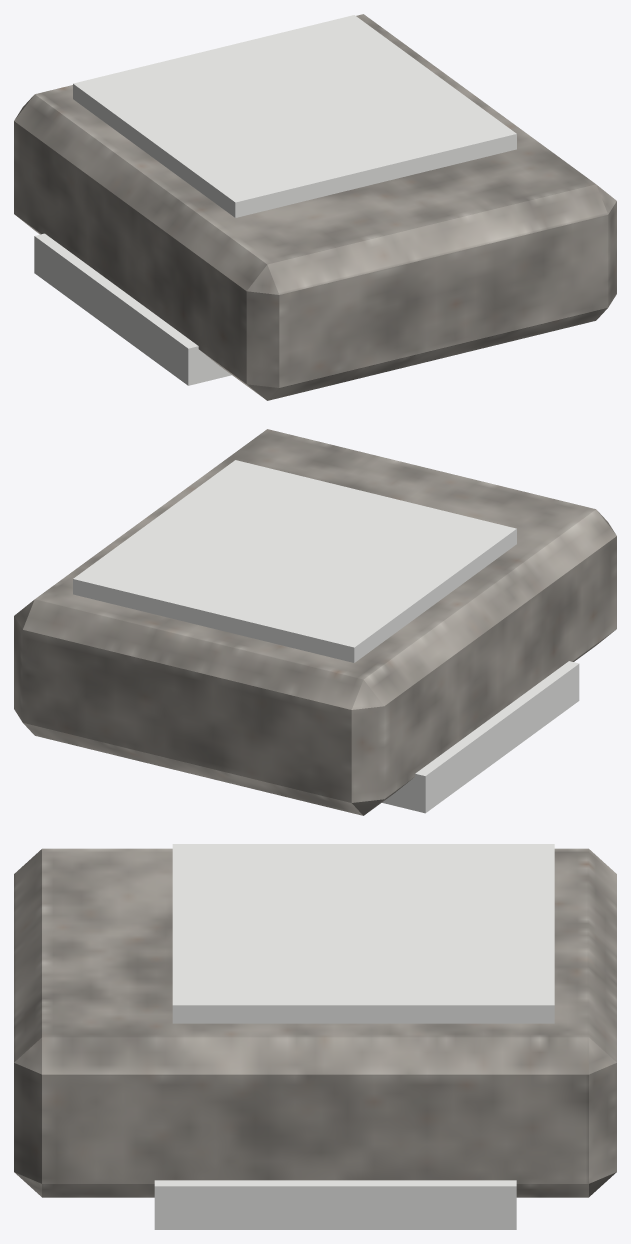
Rendered from chassis_brute.glb.
3 views of the same model, one above another, from view 1: azimuth 30°, elevation 25°; view 2: azimuth 150°, elevation 25°; view 3: azimuth 270°, elevation 25° (orthographic). The views are drawn at different scales.
Parts seen in each view (by area): view 1: chassis_brute, deck, skirt; view 2: chassis_brute, deck, skirt; view 3: chassis_brute, deck, skirt.
Boxes of the visible parts, left/top/right/bottom form: chassis_brute: left=14, top=14, right=616, bottom=400; deck: left=73, top=15, right=516, bottom=217; skirt: left=34, top=233, right=231, bottom=385; chassis_brute: left=14, top=429, right=616, bottom=815; deck: left=73, top=460, right=516, bottom=662; skirt: left=382, top=661, right=579, bottom=813; chassis_brute: left=14, top=848, right=616, bottom=1197; deck: left=172, top=844, right=554, bottom=1023; skirt: left=154, top=1180, right=516, bottom=1229.
Bounding box in the file's own units: 1.32 × 0.53 × 1.5.
2 materials, 1 textured.
